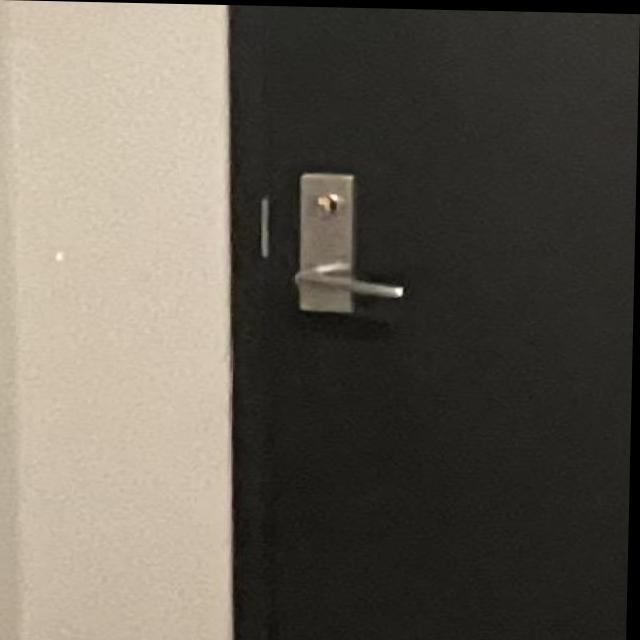door_handle: (268, 249, 421, 319)
